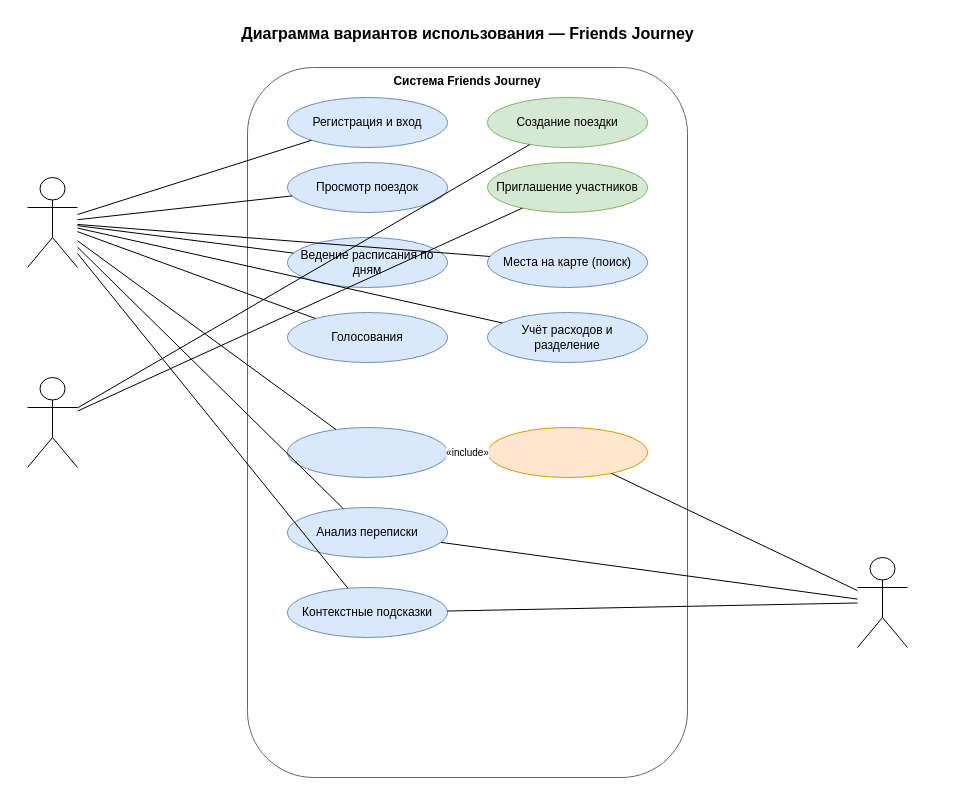
The diagram is 956 pixels wide and 795 high, and some of its shapes have lost their labels. The centre of each missing label's shape, as x and y in pixels:
"ИИ-ассистент «Гид» (Claude)" goes at (882,602).
"Общение в чате" goes at (367,452).
"Организатор" goes at (52,422).
"Ответ гида в чате (с памятью)" goes at (567,452).
"Участник" goes at (52,222).
